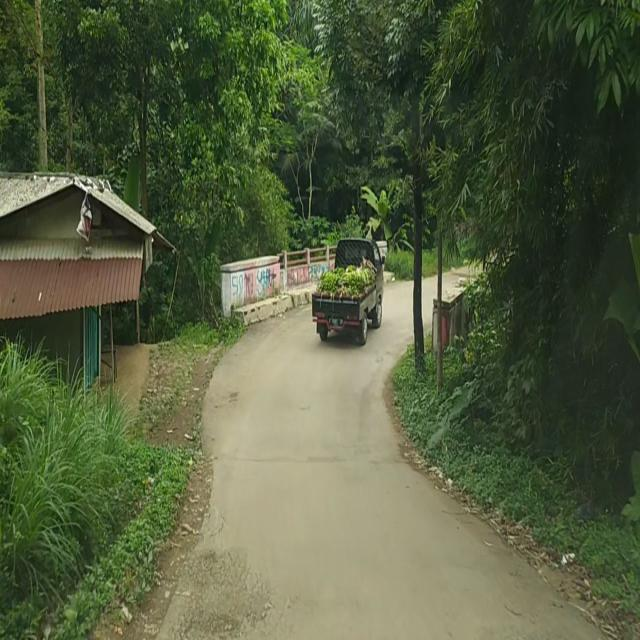Drain Hole: (168, 547, 272, 637)
